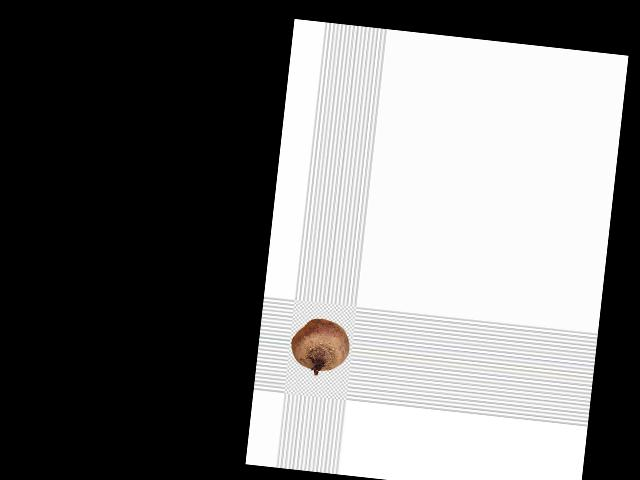beet: (288, 316, 351, 379)
